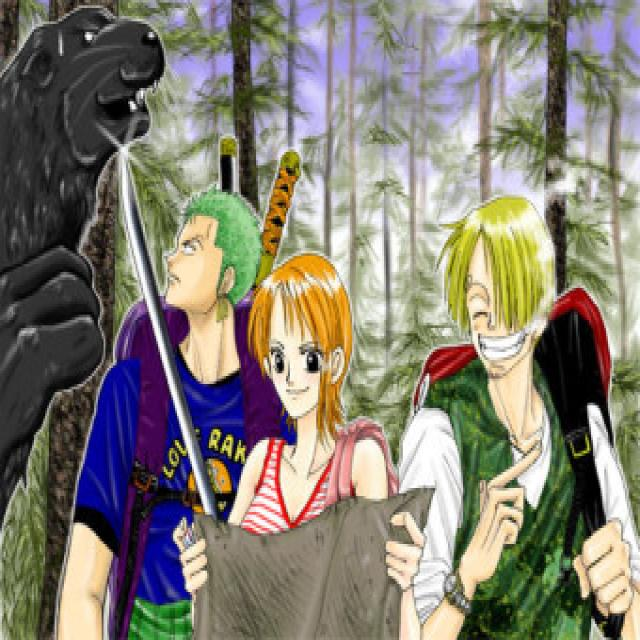Nami: (236, 247, 362, 441)
Sangdi: (434, 174, 567, 398)
Zoro: (152, 178, 268, 338)
